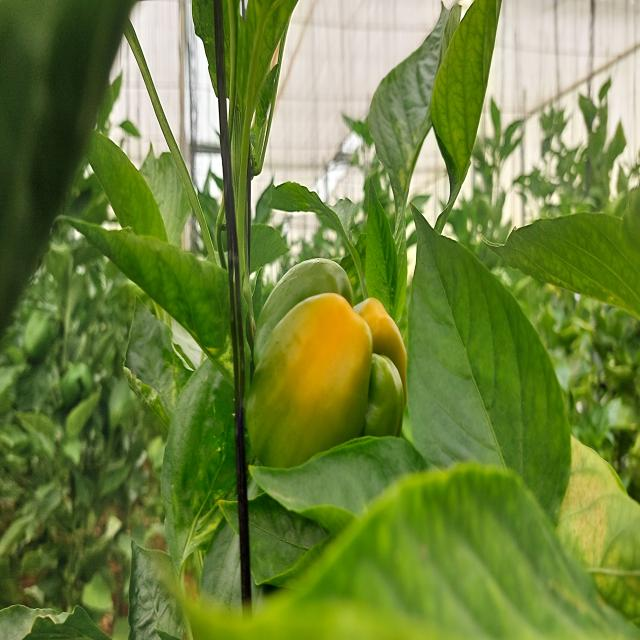GreenishYellow--Can-be-Harvested: (244, 226, 418, 497)
